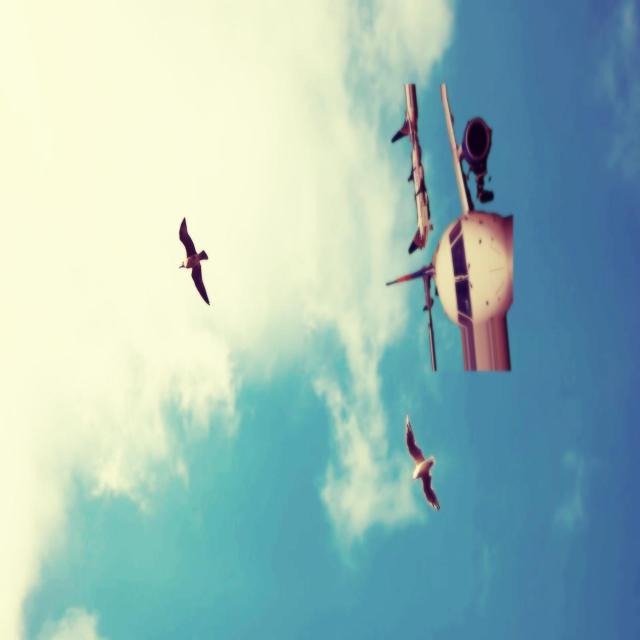airplane: (385, 81, 514, 372), (391, 83, 433, 255)
